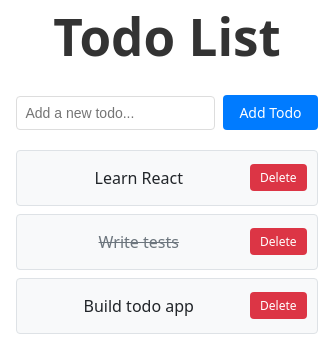
Test: TodoList Component › shows empty state message when all todos are deleted
The width and height of the screenshot is (335, 351).
Click the button "Delete" next to "Learn React" at (278, 178), box [250,164,307,191]
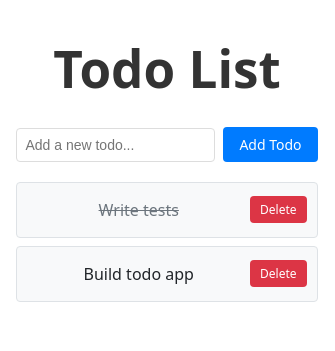
Click the button "Delete" next to "Write tests" at (278, 210), box [250,196,307,223]
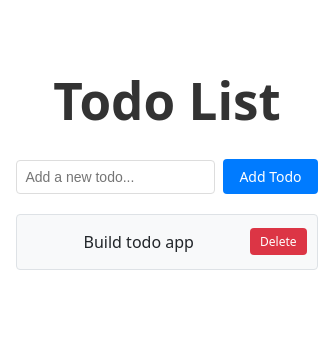
Click the button "Delete" at (278, 242), box [250,228,307,255]
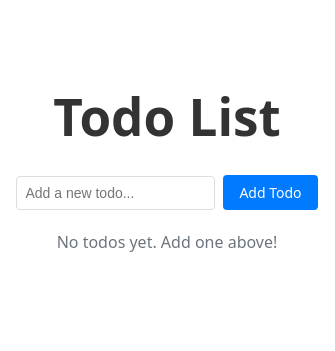
Expected: the text "No todos yet. Add one above!" is shown, [57,231,277,253]
Expected: no list items are shown
